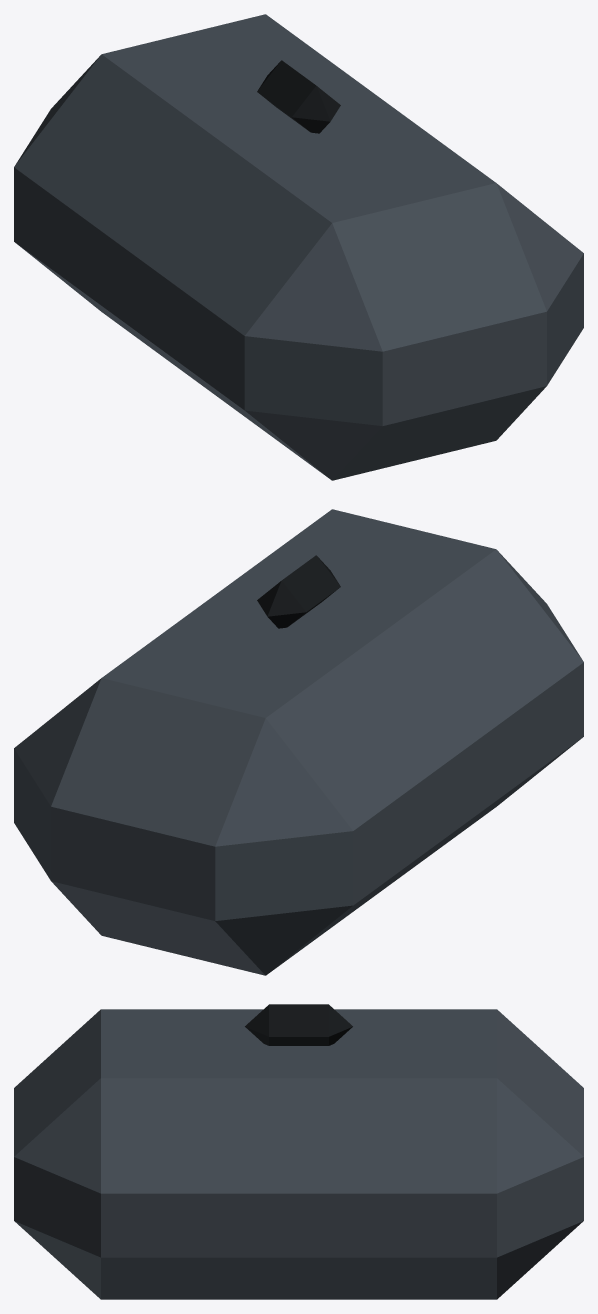
File: Mouse.fbx
3 views of the same model, one above another, from view 1: azimuth 30°, elevation 25°; view 2: azimuth 150°, elevation 25°; view 3: azimuth 270°, elevation 25° (orthographic). The views are drawn at different scales.
Visible parts, largest first — view 1: Mouse; view 2: Mouse; view 3: Mouse.
Boxes of the visible parts, x1,y1,x2,y2 form: Mouse: (14, 14, 583, 480); Mouse: (14, 509, 583, 975); Mouse: (14, 1004, 583, 1299).
Size of the model in its own units: 6.2 by 5.3 by 10.5.
1 material, 1 textured.
